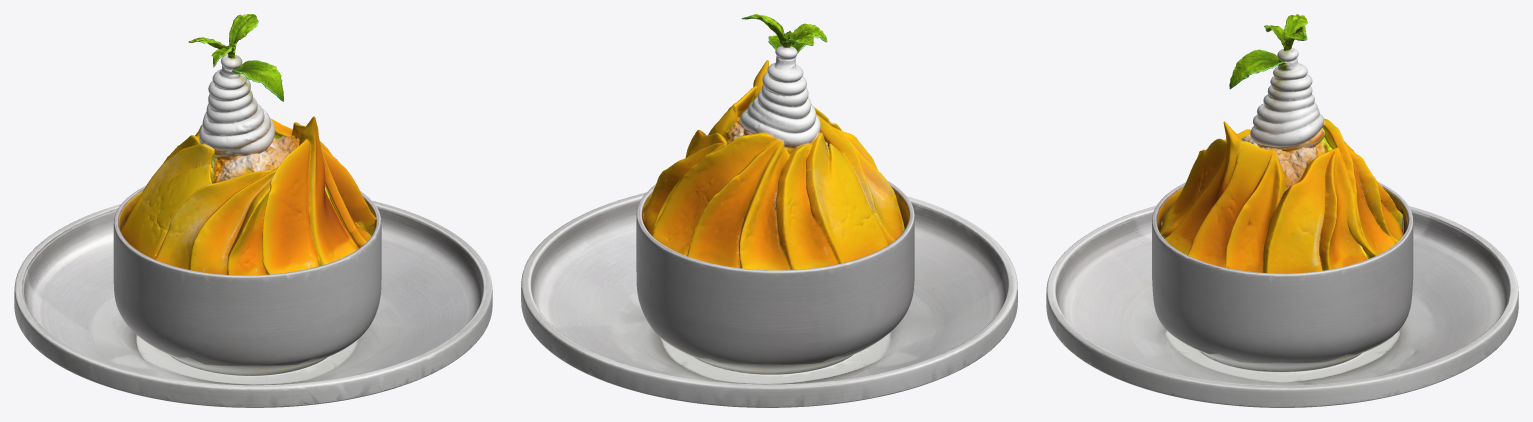
Rendered from mangopetaltower.glb.
3 views of the same model, side by side, from view 1: azimuth 30°, elevation 25°; view 2: azimuth 150°, elevation 25°; view 3: azimuth 270°, elevation 25° (orthographic). The views are drawn at different scales.
Size of the model in its own units: 0.5697 by 0.4263 by 0.5696.
1 material, 1 textured.
